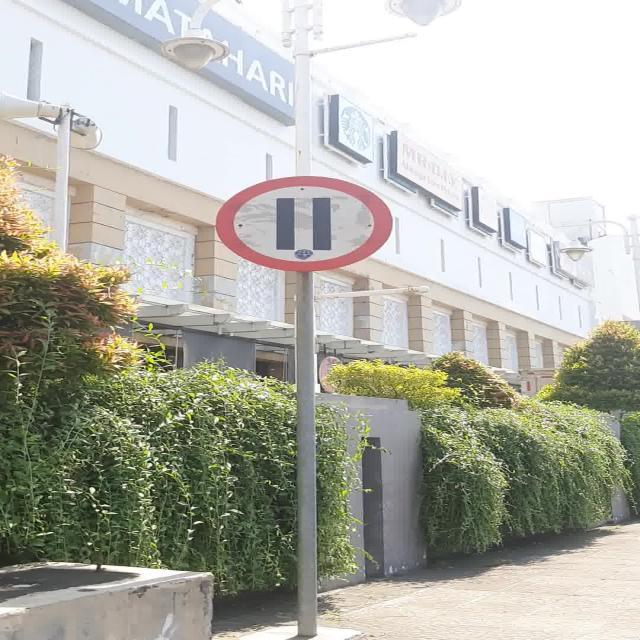Larangan Muatan - 10 ton: (215, 176, 392, 272)
